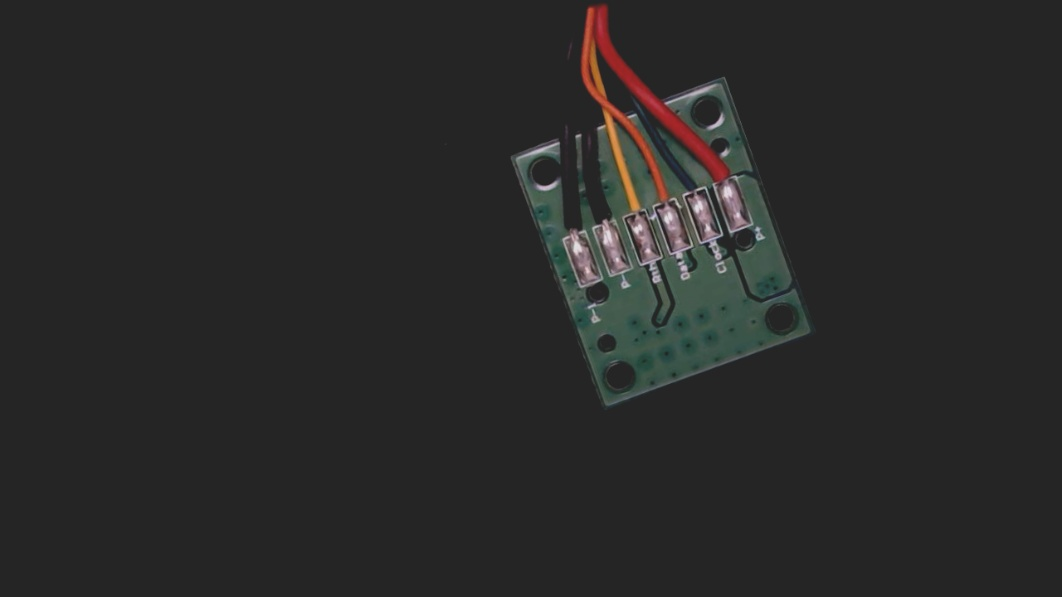Black: (576, 178, 624, 245)
Black1: (549, 193, 593, 255)
Green: (668, 153, 714, 217)
Orange: (638, 161, 683, 226)
Red: (698, 139, 744, 203)
Yellow: (604, 169, 651, 236)
